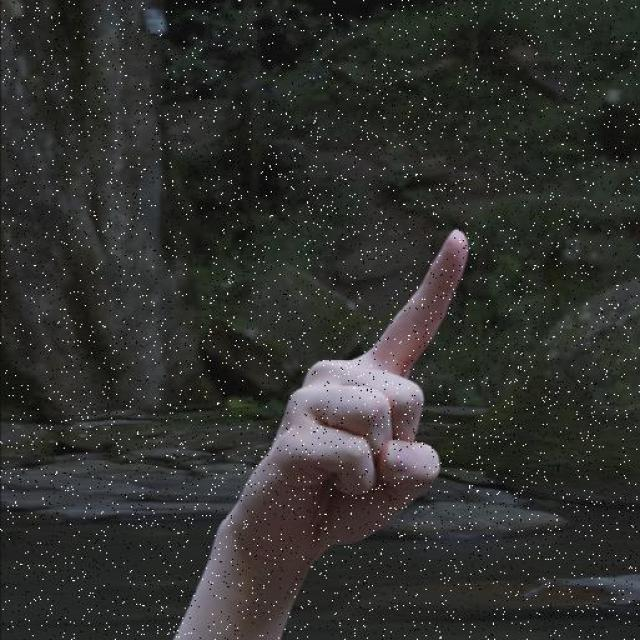Z: (213, 222, 478, 568)
